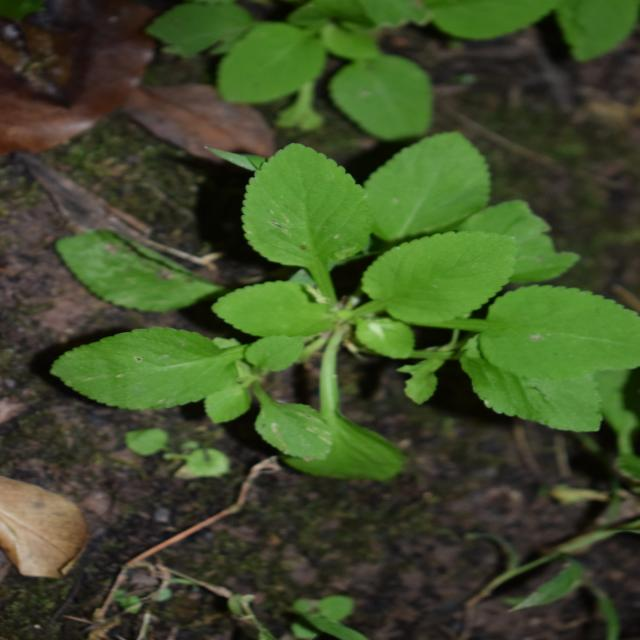Viola: (155, 23, 438, 574)
